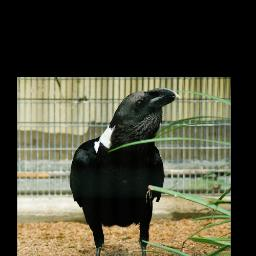Crow: (70, 87, 182, 256)
